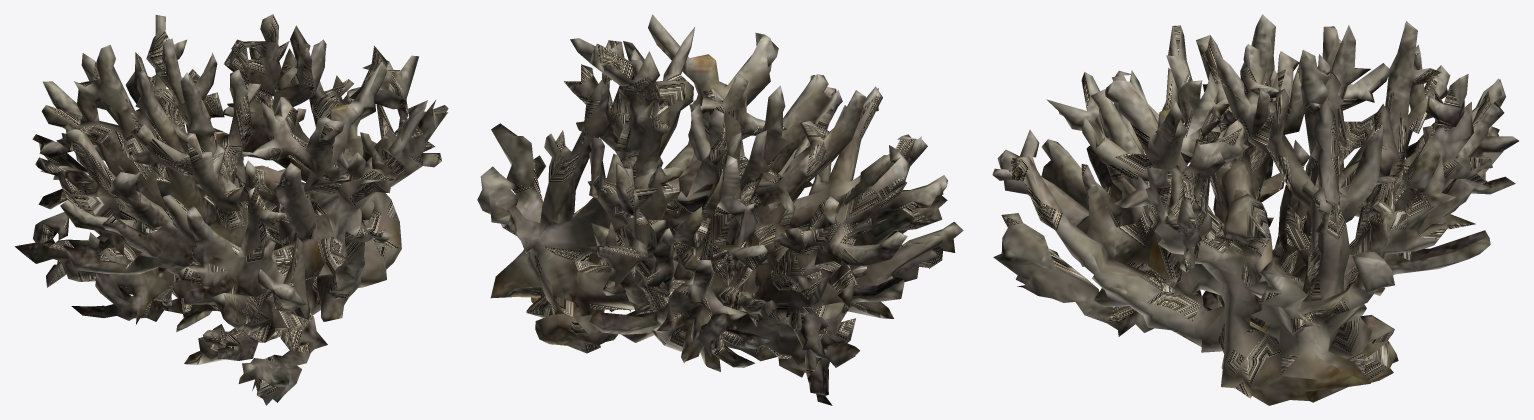
File: branch-coral.glb
3 views of the same model, side by side, from view 1: azimuth 30°, elevation 25°; view 2: azimuth 150°, elevation 25°; view 3: azimuth 270°, elevation 25° (orthographic). The views are drawn at different scales.
Size of the model in its own units: 1.93 by 1.27 by 2.
Materials: 1 (1 with a texture image).
